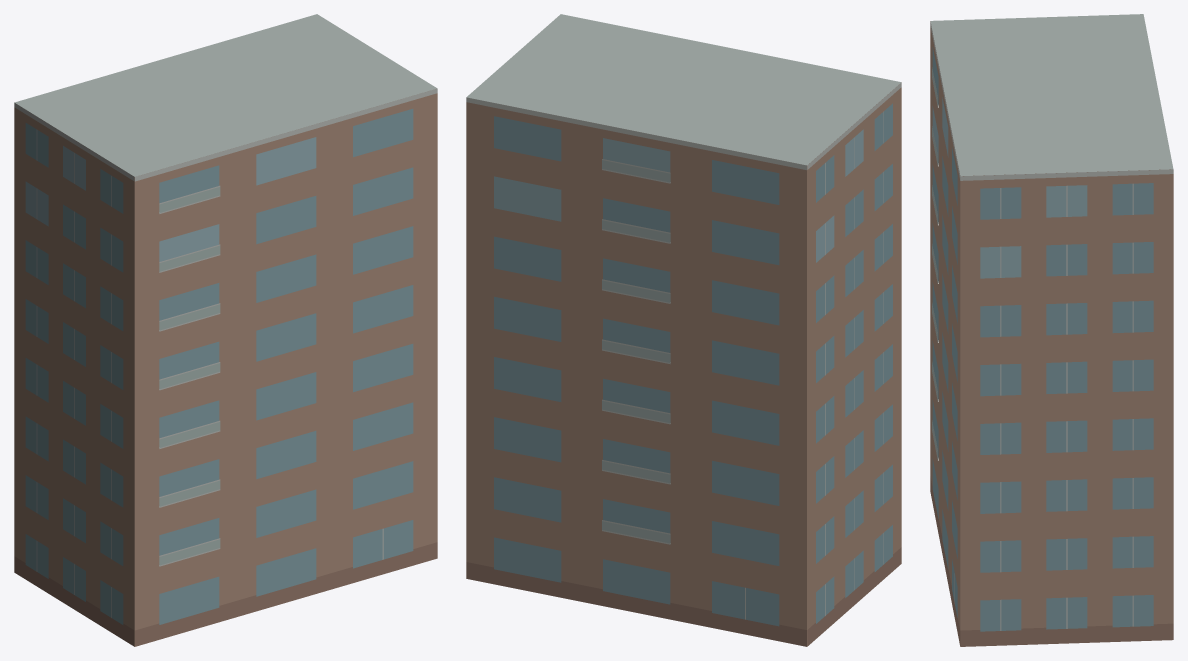
The model's file is survey-upis-32562590.glb.
The picture shows the model from 3 angles, left to right: view 1: azimuth 30°, elevation 25°; view 2: azimuth 150°, elevation 25°; view 3: azimuth 270°, elevation 25°; orthographic projection. The views are drawn at different scales.
Visible parts, largest first — view 1: survey-upis-32562590.tmp; view 2: survey-upis-32562590.tmp; view 3: survey-upis-32562590.tmp.
Boxes of the visible parts, x1,y1,x2,y2 form: survey-upis-32562590.tmp: (14, 14, 437, 646); survey-upis-32562590.tmp: (466, 14, 901, 646); survey-upis-32562590.tmp: (930, 14, 1173, 646).
Bounding box in the file's own units: 18.04 × 24.4 × 11.43.
